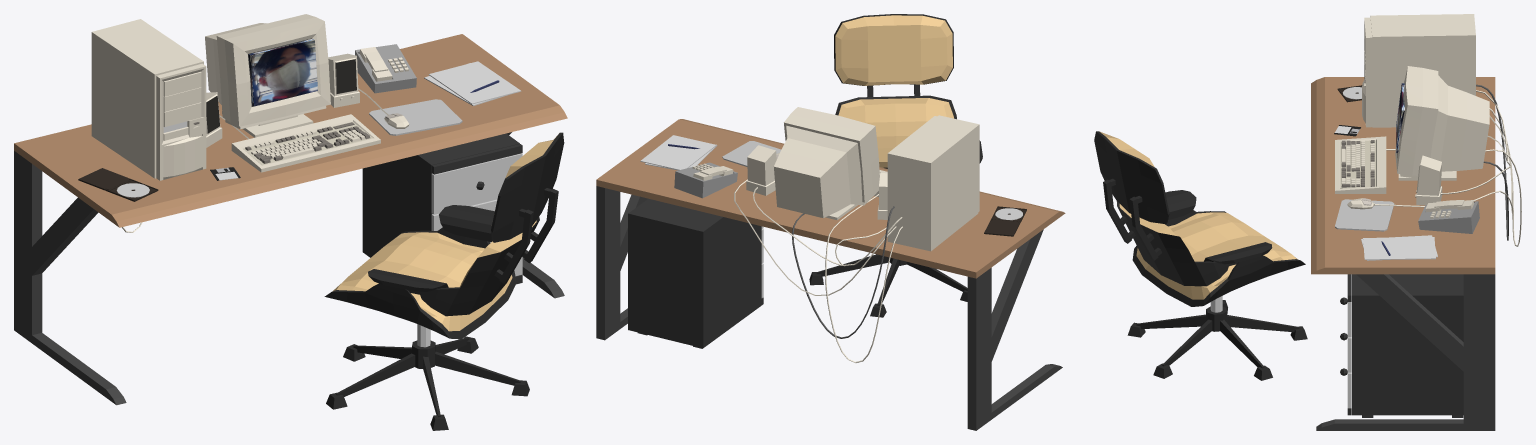
The picture shows the model from 3 angles, left to right: view 1: azimuth 30°, elevation 25°; view 2: azimuth 150°, elevation 25°; view 3: azimuth 270°, elevation 25°; orthographic projection. The views are drawn at different scales.
Parts seen in each view (by area): view 1: Cube.000_ComputerDesk_0.001, Cube; view 2: Cube.000_ComputerDesk_0.001; view 3: Cube.000_ComputerDesk_0.001.
Boxes of the visible parts, x1=… form: Cube.000_ComputerDesk_0.001: x1=14, y1=14, x2=567, y2=430; Cube: x1=248, y1=38, x2=317, y2=106; Cube.000_ComputerDesk_0.001: x1=596, y1=14, x2=1065, y2=430; Cube.000_ComputerDesk_0.001: x1=1094, y1=14, x2=1521, y2=430.
Bounding box in the file's own units: 188 × 116 × 178.
Materials: 3 (3 with a texture image).
